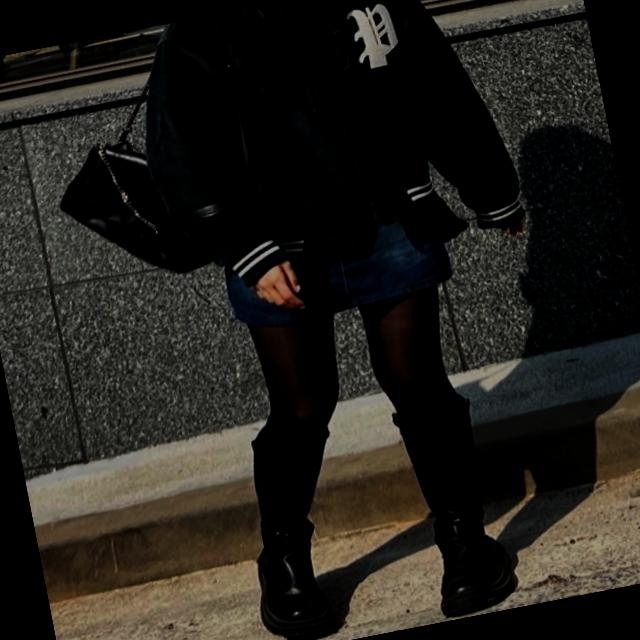jacket: (128, 0, 534, 296)
skirt: (209, 174, 456, 338)
